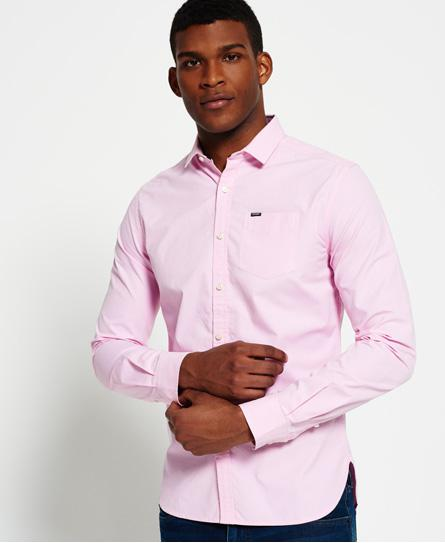teeshirt: (94, 119, 424, 523)
